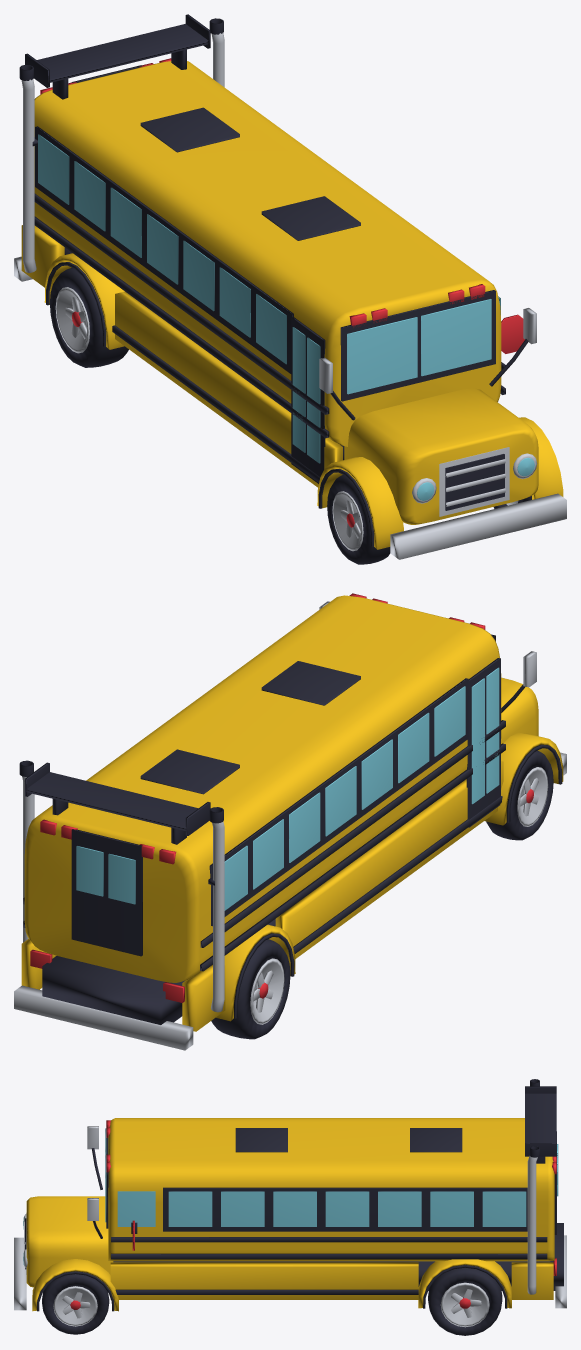
The model's file is bus_swagger.glb.
3 views of the same model, one above another, from view 1: azimuth 30°, elevation 25°; view 2: azimuth 150°, elevation 25°; view 3: azimuth 270°, elevation 25° (orthographic). The views are drawn at different scales.
Visible parts, largest first — view 1: Cabin, Hood, Skirt_Front_R, WindowBand_R, BumperFront, Windshield_L, Windshield_R, Spoiler, WindshieldFrame, Fender_FR, Rail_Mid_R, Tire_RR (+24 smaller); view 2: Cabin, Skirt_Front_R, Chassis, RearFrame, WindowBand_R, Spoiler, BumperRear, Tire_RR, Rail_Mid_R, RoofHatch_2, RoofHatch_1, Rail_High_R (+25 smaller); view 3: Cabin, Skirt_Front_L, WindowBand_L, Hood, Rail_Mid_L, Rail_High_L, Tire_RL, Tire_FL, Rail_Low_L, Chassis, Window_L1, Window_L4 (+20 smaller).
Boxes of the visible parts, bbox=[...] form: Cabin: bbox=[34, 61, 501, 446]; Hood: bbox=[344, 388, 538, 524]; Skirt_Front_R: bbox=[115, 291, 342, 494]; WindowBand_R: bbox=[35, 126, 293, 373]; BumperFront: bbox=[390, 493, 566, 559]; Windshield_L: bbox=[421, 299, 491, 376]; Windshield_R: bbox=[347, 317, 417, 394]; Spoiler: bbox=[37, 24, 208, 82]; WindshieldFrame: bbox=[340, 290, 495, 401]; Fender_FR: bbox=[317, 457, 403, 549]; Rail_Mid_R: bbox=[34, 216, 329, 438]; Tire_RR: bbox=[50, 267, 128, 367]; Cabin: bbox=[24, 595, 501, 982]; Skirt_Front_R: bbox=[275, 761, 503, 958]; Chassis: bbox=[42, 919, 275, 1024]; RearFrame: bbox=[71, 829, 142, 956]; WindowBand_R: bbox=[209, 678, 468, 926]; Spoiler: bbox=[26, 772, 198, 830]; BumperRear: bbox=[14, 985, 193, 1050]; Tire_RR: bbox=[211, 939, 290, 1039]; Rail_Mid_R: bbox=[200, 743, 505, 971]; RoofHatch_2: bbox=[140, 749, 239, 794]; RoofHatch_1: bbox=[261, 661, 360, 705]; Rail_High_R: bbox=[200, 720, 505, 947]; Cabin: bbox=[108, 1118, 554, 1261]; Skirt_Front_L: bbox=[110, 1262, 418, 1299]; WindowBand_L: bbox=[163, 1187, 527, 1231]; Hood: bbox=[26, 1196, 113, 1287]; Rail_Mid_L: bbox=[111, 1253, 547, 1259]; Rail_High_L: bbox=[111, 1237, 547, 1242]; Tire_RL: bbox=[428, 1267, 502, 1335]; Tire_FL: bbox=[42, 1274, 109, 1334]; Rail_Low_L: bbox=[115, 1289, 418, 1294]; Chassis: bbox=[113, 1223, 563, 1290]; Window_L1: bbox=[168, 1191, 212, 1226]; Window_L4: bbox=[325, 1191, 369, 1226].
Size of the model in its own units: 3.34 by 3.6 by 9.51.
